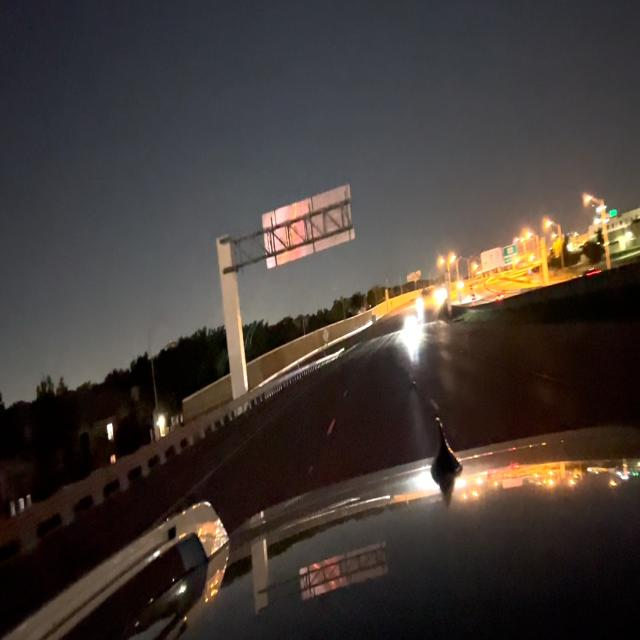back-of-sign: (262, 184, 356, 274)
